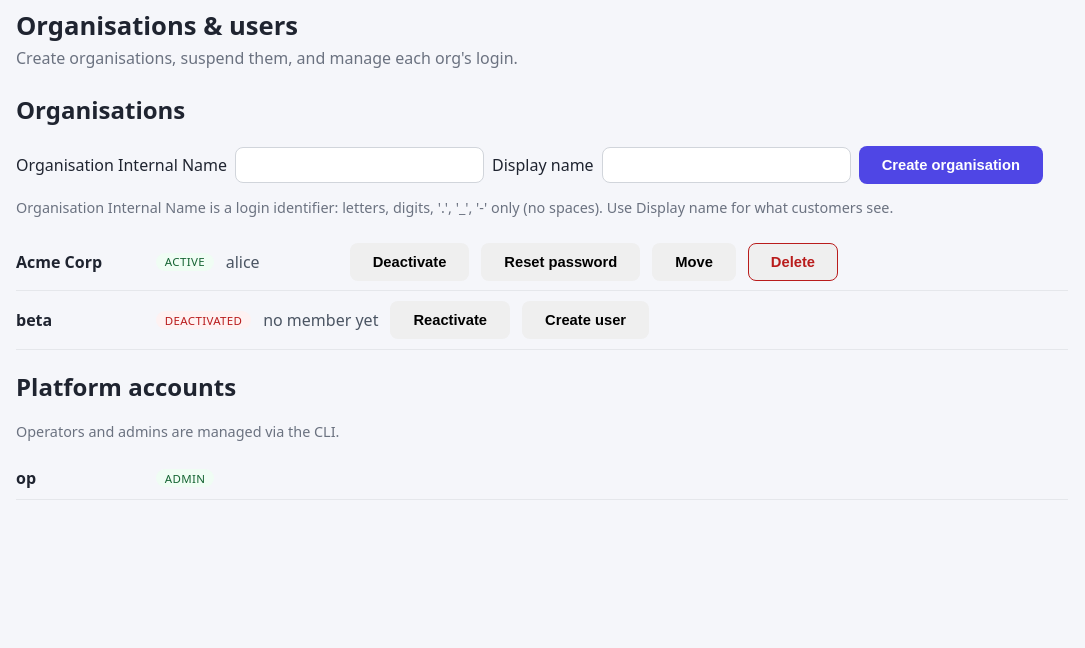
Test: AccountsPage › does not create a user when the passwords do not match
The width and height of the screenshot is (1085, 648).
expect the text "Acme Corp" is shown: met, box [16,251,102,273]
Click the button with aria-label "create user for beta". click: click(586, 320)
box: [522,301,649,339]
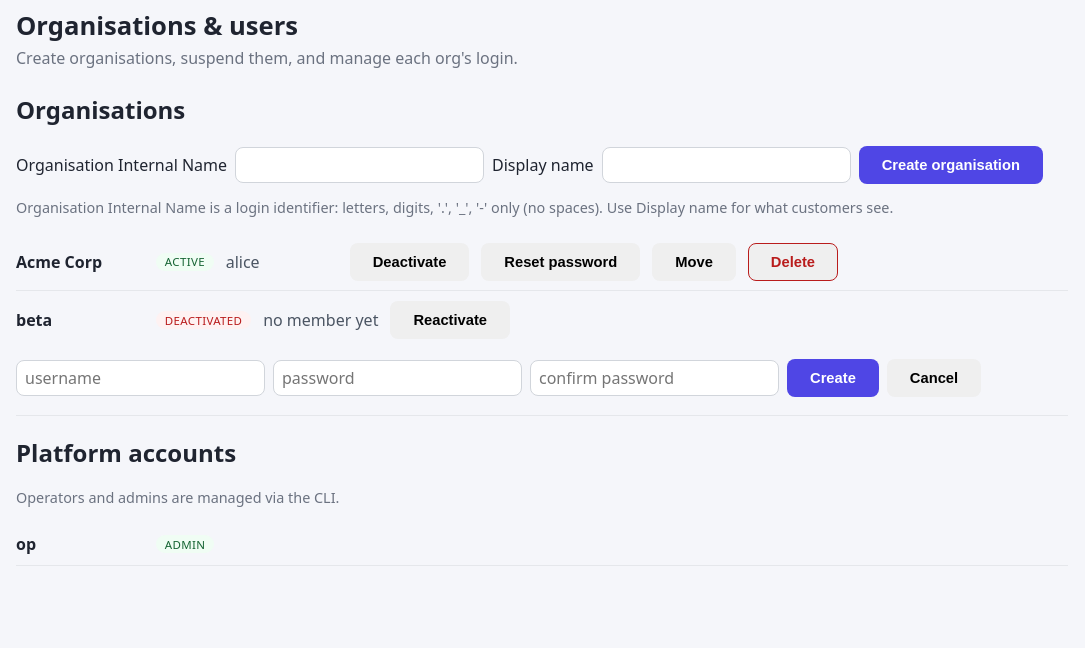
Type "bob" into the field named "Username for beta". click: (140, 378)
box: [16,360,265,396]
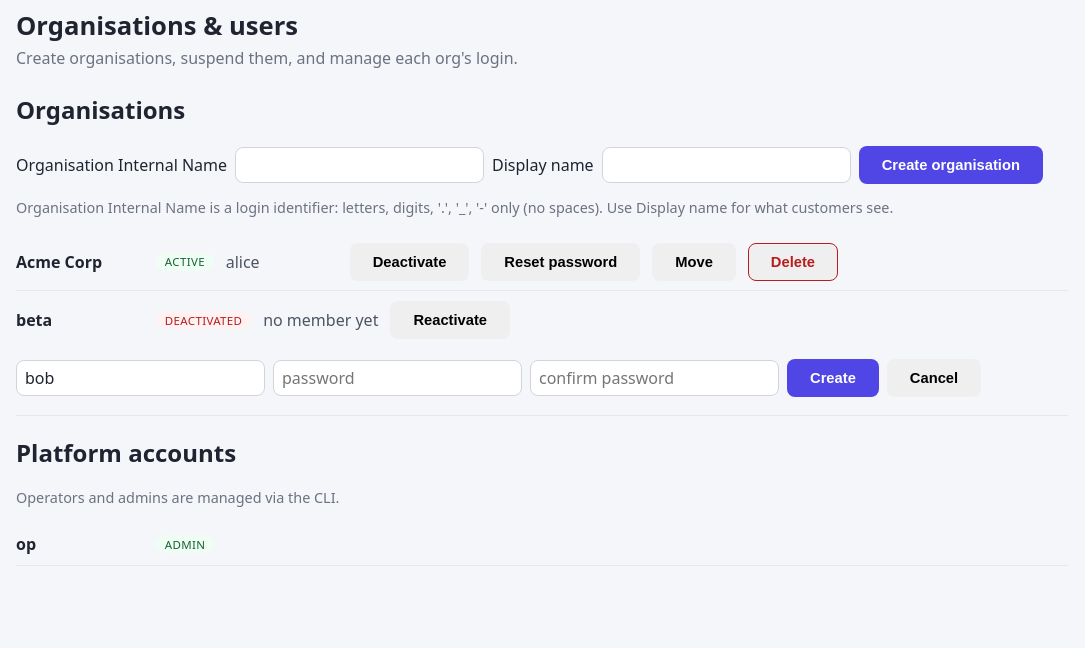
Type "pw" into the password field named "Password for beta". click: (398, 378)
box: [273,360,522,396]
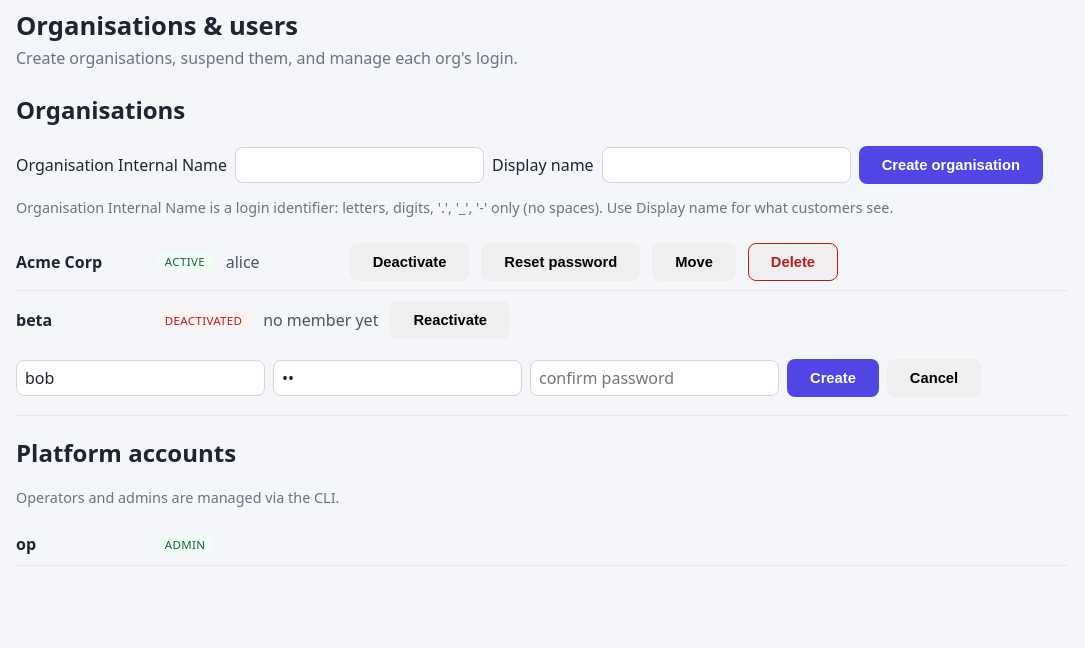
Type "nope" into the password field named "Confirm password for beta". click: (654, 378)
box: [530,360,779,396]
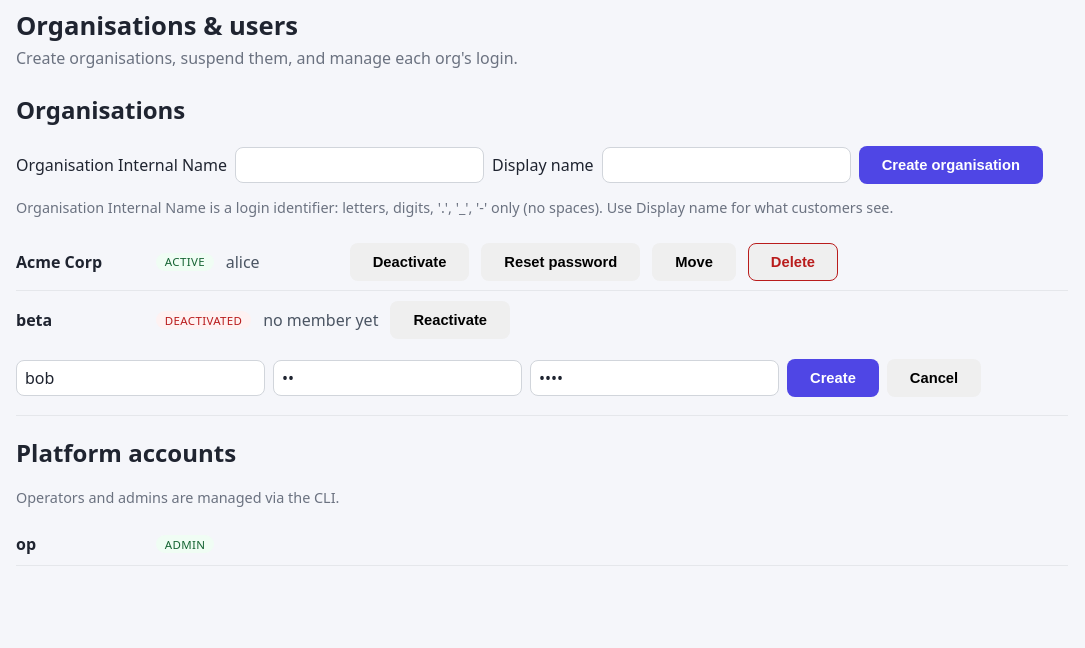
Click the button "Create". click: click(833, 378)
box: [787,359,879,397]
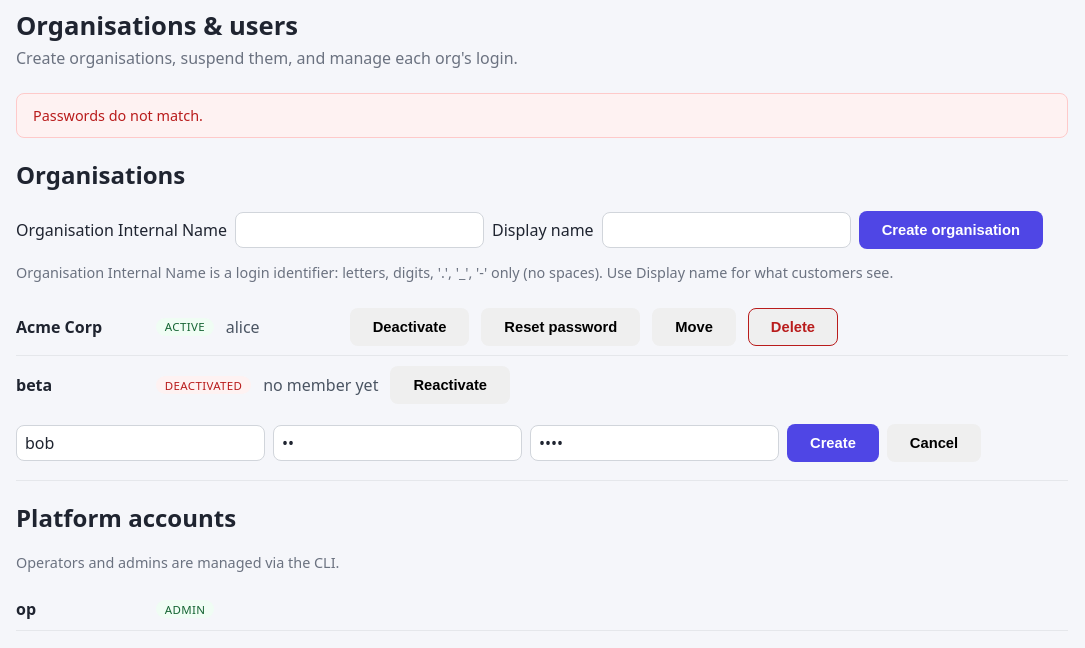
expect the text "Passwords do not match." is shown: met, box [16,93,1068,138]
